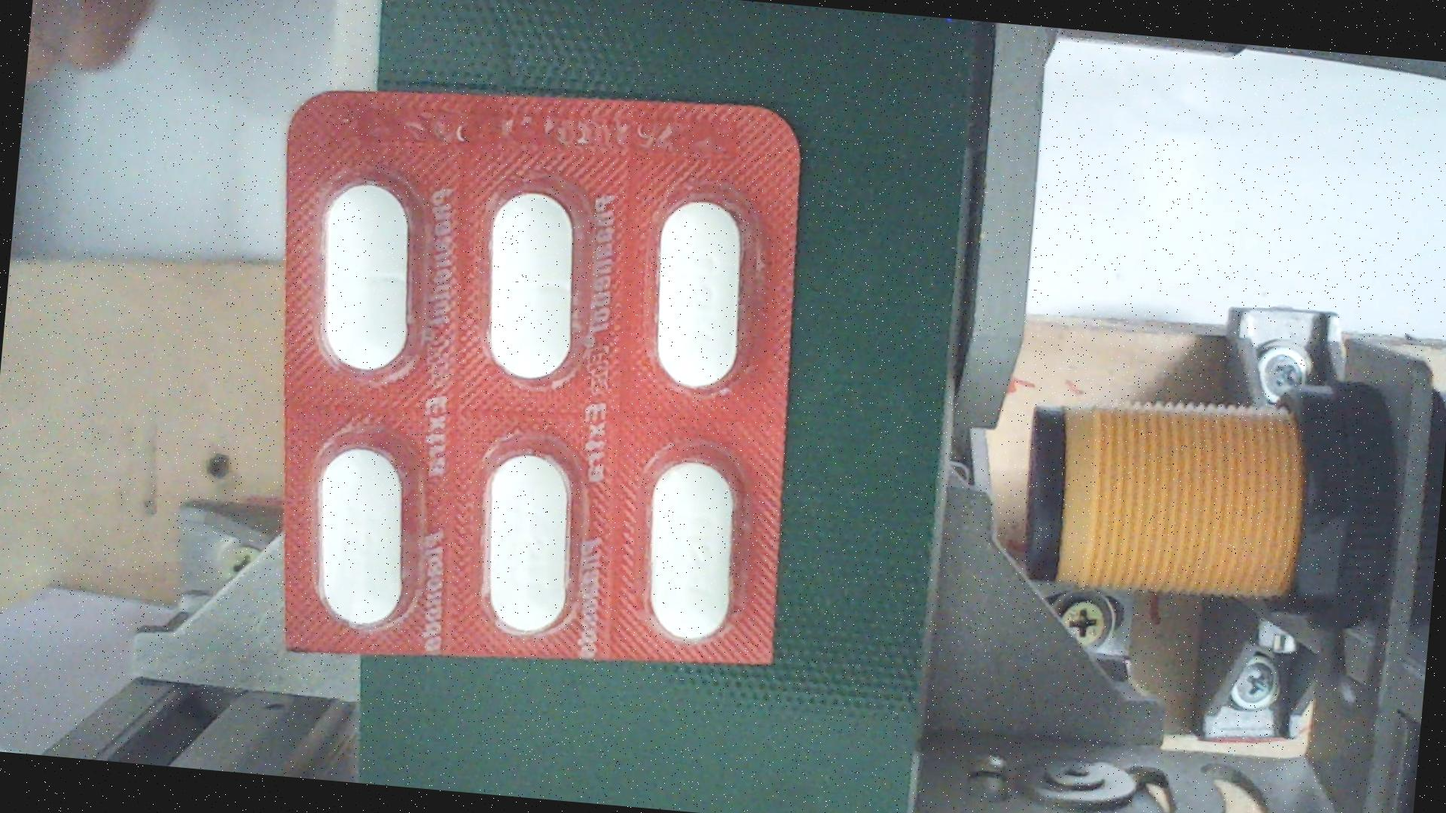Full: (640, 450, 742, 649), (316, 178, 418, 376), (478, 445, 579, 644), (311, 437, 412, 636), (481, 187, 582, 385), (648, 193, 749, 391)
